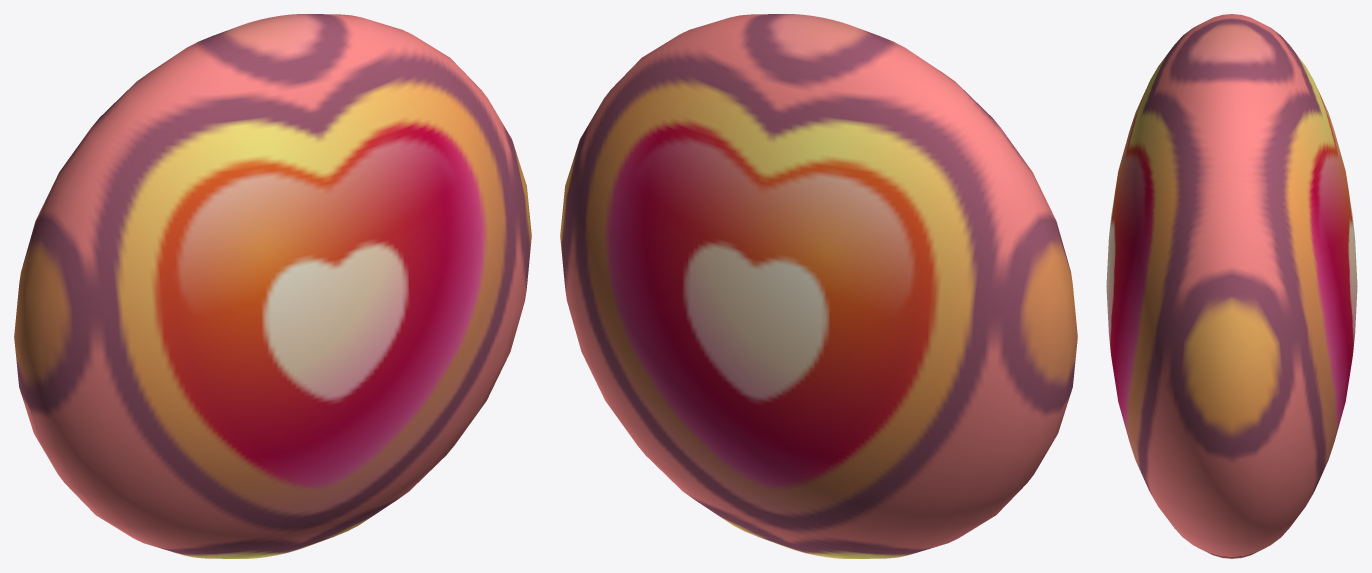
Rendered from HealItem.FBX.
3 renders of one model, left to right at view 1: azimuth 30°, elevation 25°; view 2: azimuth 150°, elevation 25°; view 3: azimuth 270°, elevation 25°, orthographic. The views are drawn at different scales.
Visible parts, largest first — view 1: Sphere001; view 2: Sphere001; view 3: Sphere001.
Part boxes in pixels (x1,y1,x2,y2): Sphere001: (14,14,531,558); Sphere001: (560,14,1077,558); Sphere001: (1106,14,1357,558).
Size of the model in its own units: 1.01 by 1.01 by 0.4635.
